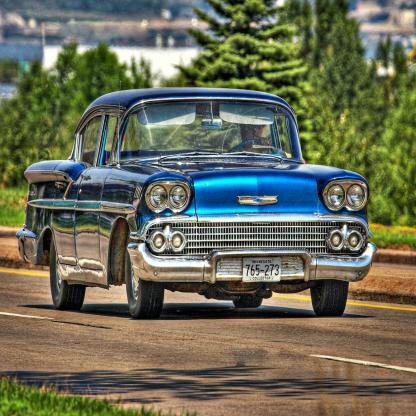Car: (16, 82, 377, 318)
